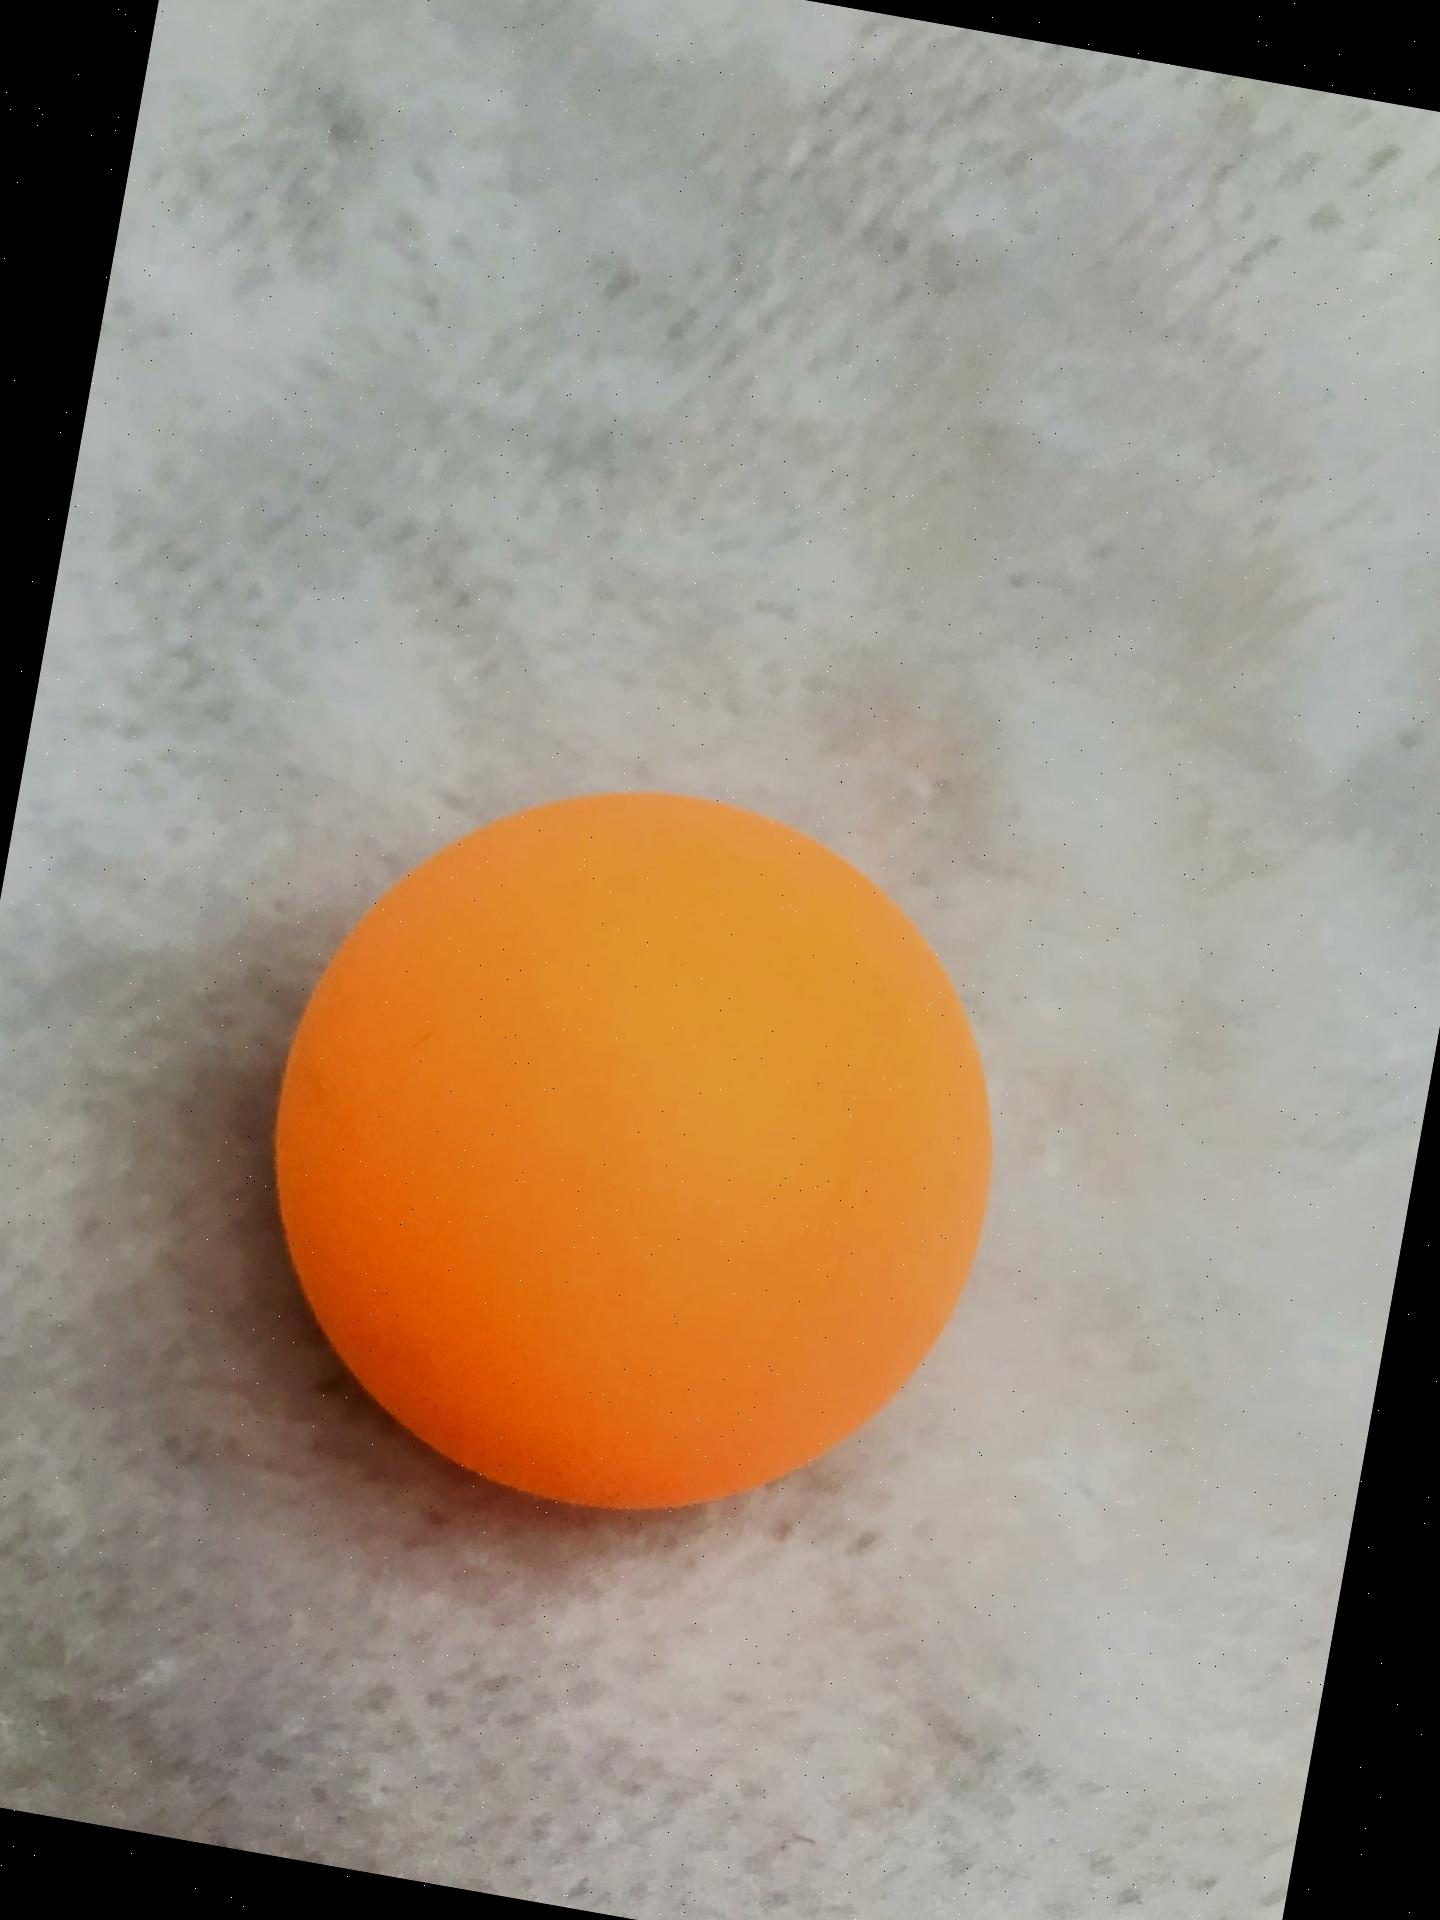ball: (197, 723, 1057, 1577)
